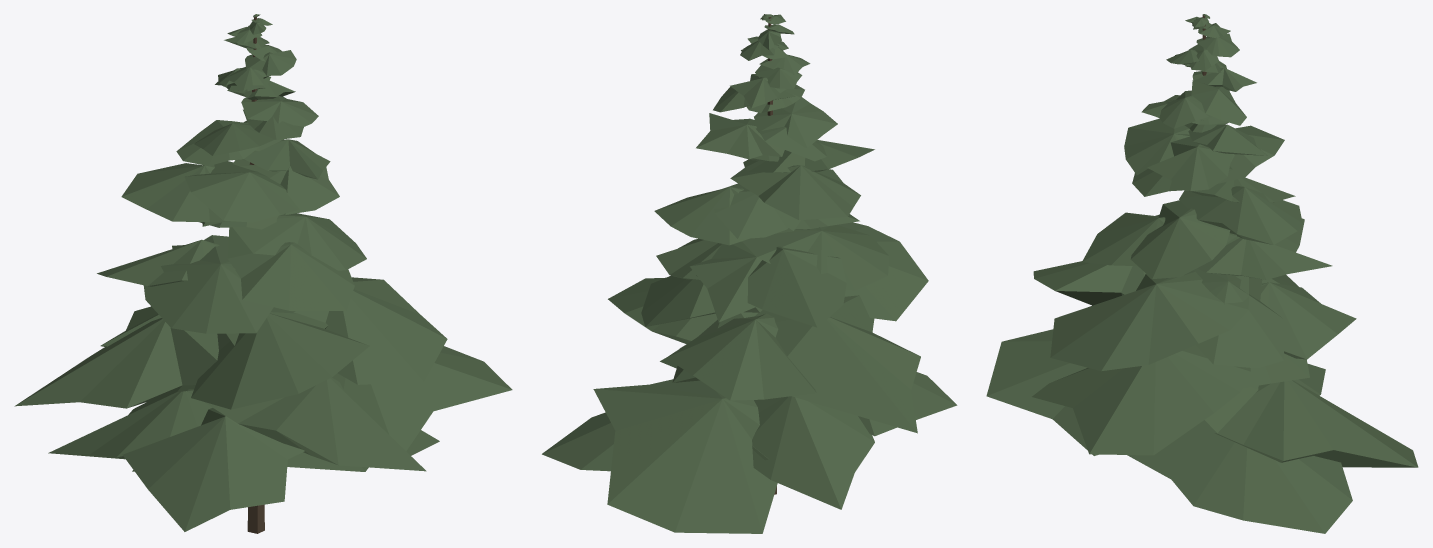
The picture shows the model from 3 angles, left to right: view 1: azimuth 30°, elevation 25°; view 2: azimuth 150°, elevation 25°; view 3: azimuth 270°, elevation 25°; orthographic projection. The views are drawn at different scales.
Visible parts, largest first — view 1: spruce; view 2: spruce; view 3: spruce.
Part boxes in pixels (x1,y1,x2,y2): spruce: (14,14,512,533); spruce: (542,14,957,533); spruce: (986,14,1418,533).
Bounding box in the file's own units: 16.1 × 19.7 × 16.09.
